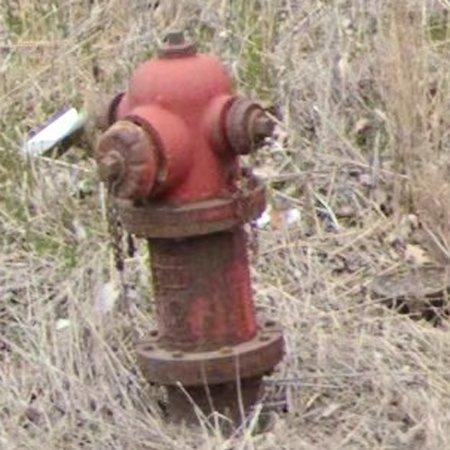a fire hydrant: (96, 35, 283, 388)
